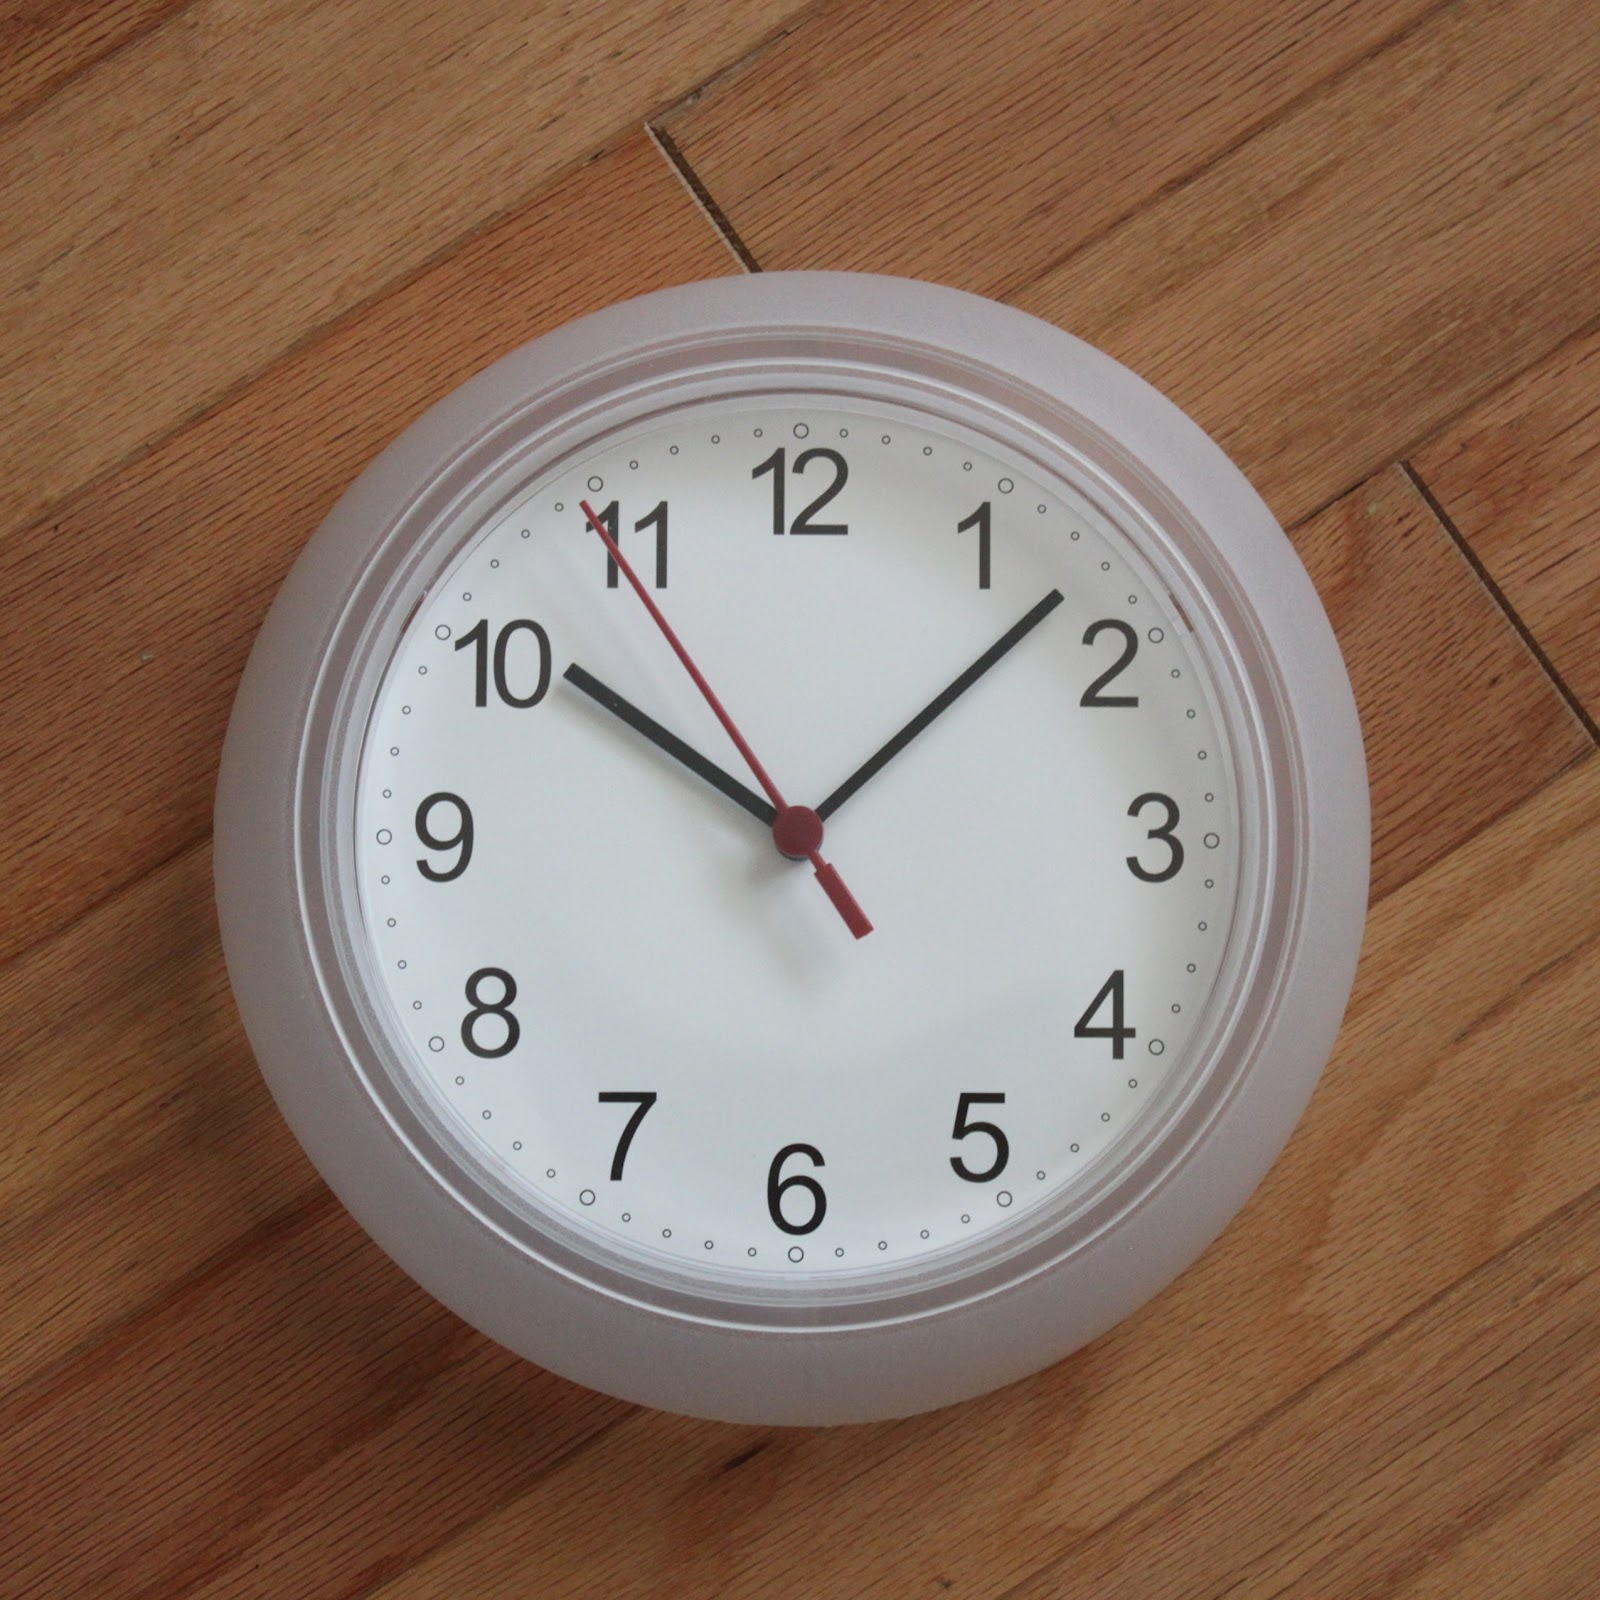clock: (214, 273, 1370, 1427)
